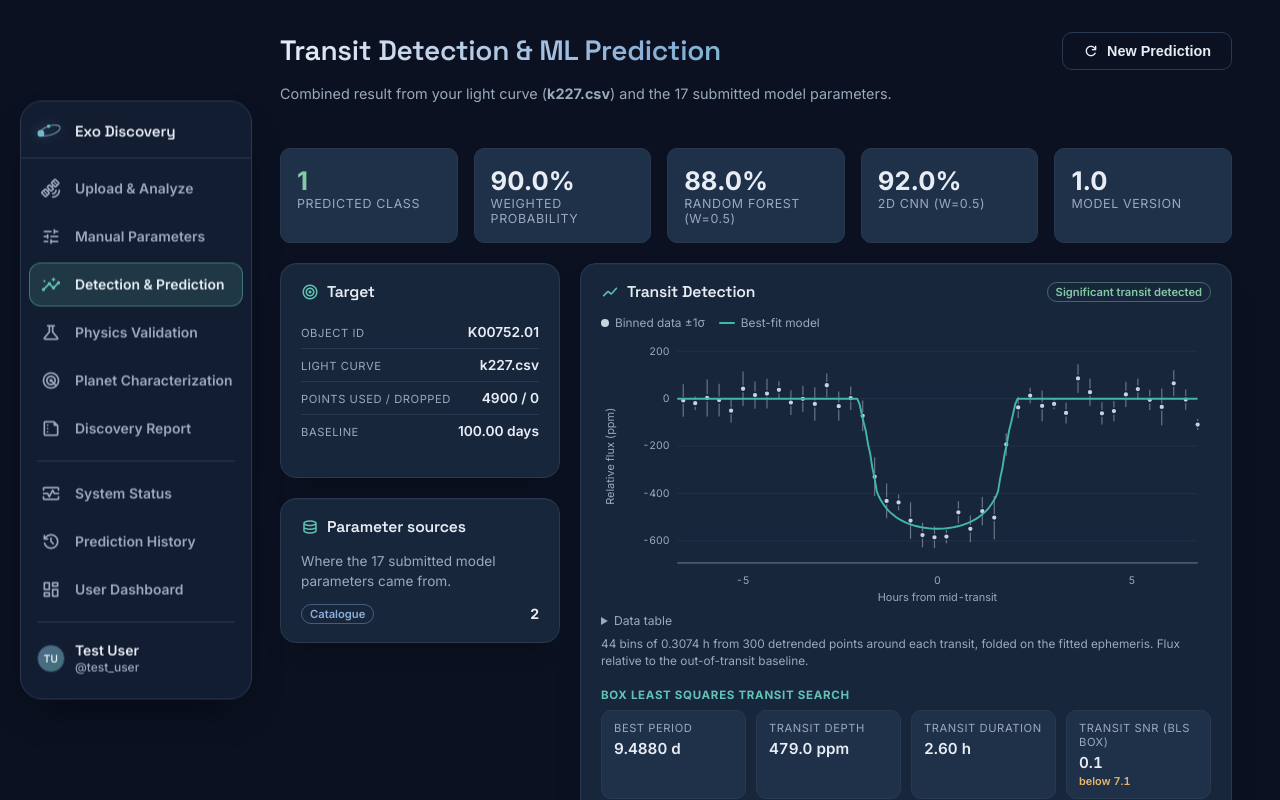
it: Planet characterization dashboard › mass-dependent and transit-density values explain their basis, source and confidence
Step 1. Click the link "Planet Characterization" → (137, 380), box [41,368,233,392]
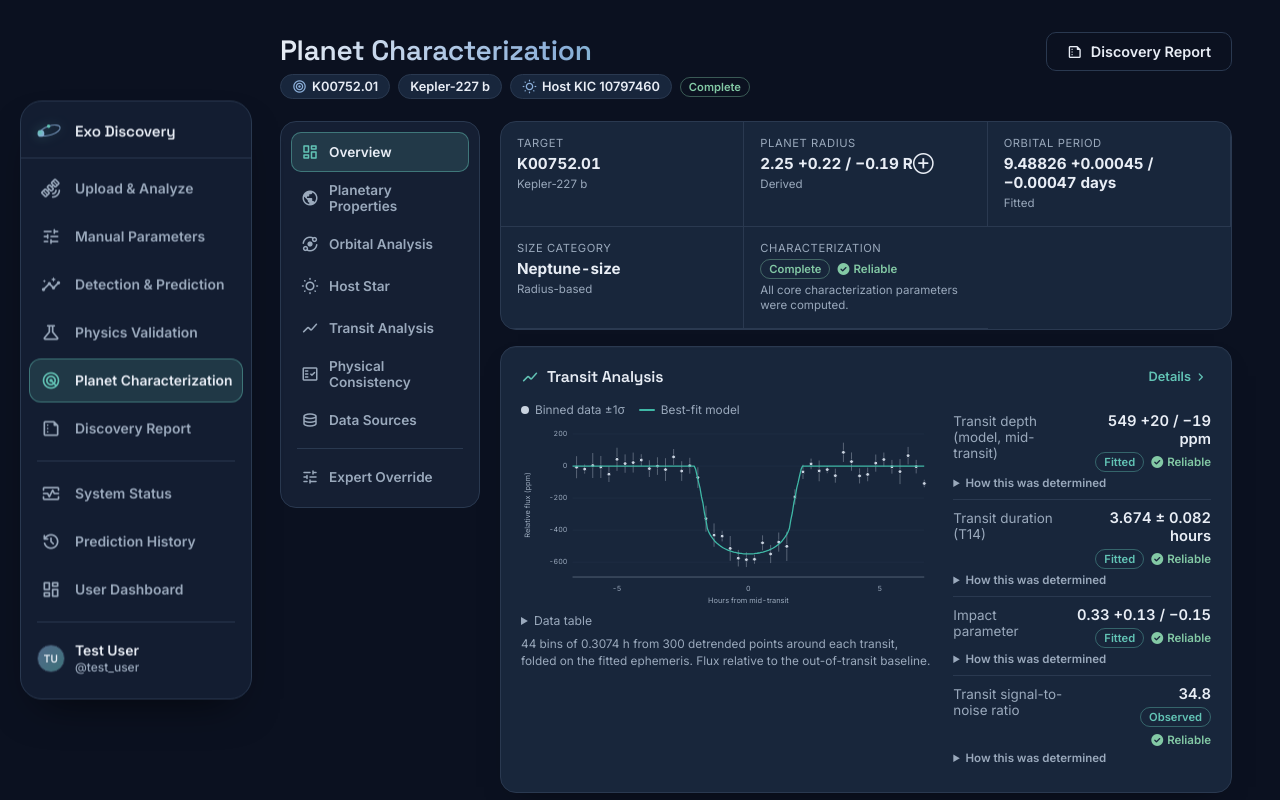
Step 2. Click the button "Planetary Properties" → (380, 198), box [291,174,469,222]
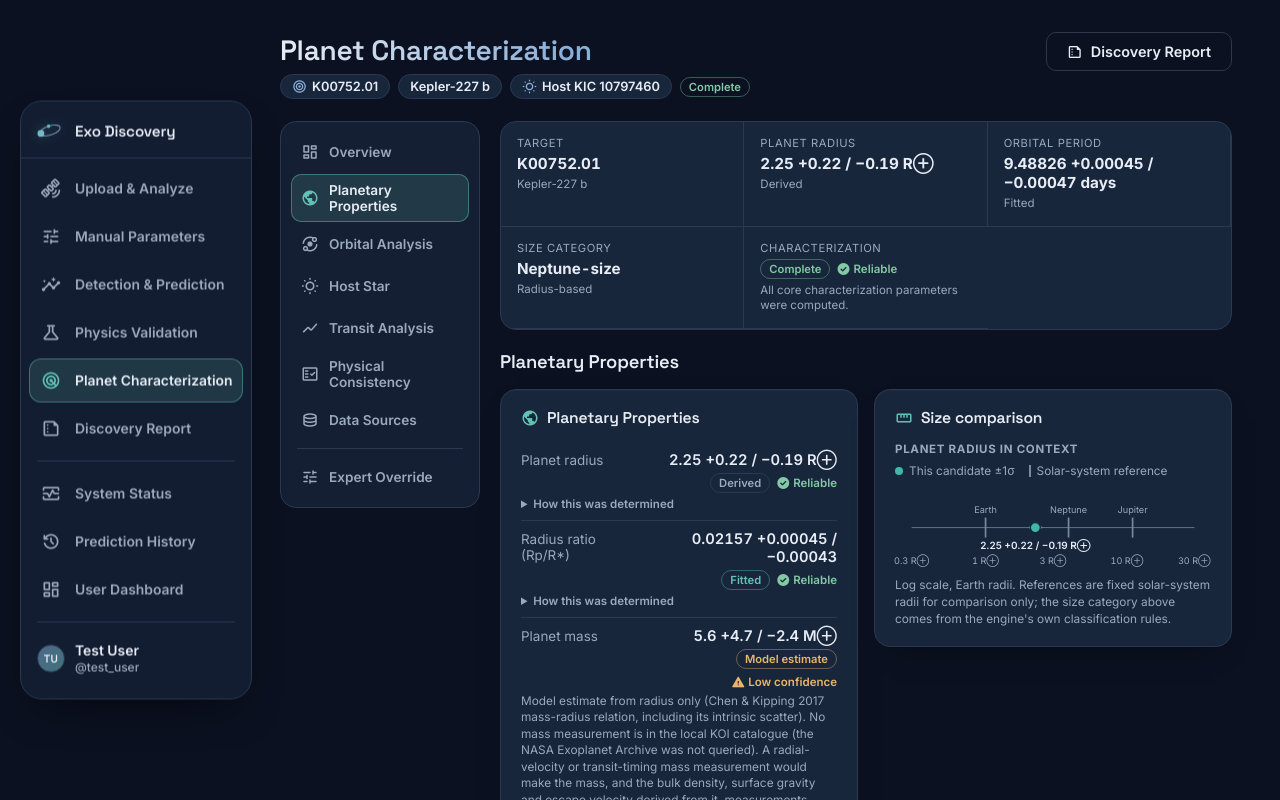
Check: the element with test id "char-param-planet_mass" shows "5.6 +4.7 / −2.4", box [694,627,837,645]
Check: the element with test id "char-param-planet_mass" shows "Model estimate", box [745,652,828,666]
Check: the element with test id "char-param-planet_mass" shows "Low confidence", box [748,675,837,689]
Step 3. Click the button "Host Star" → (380, 286), box [291,266,469,306]
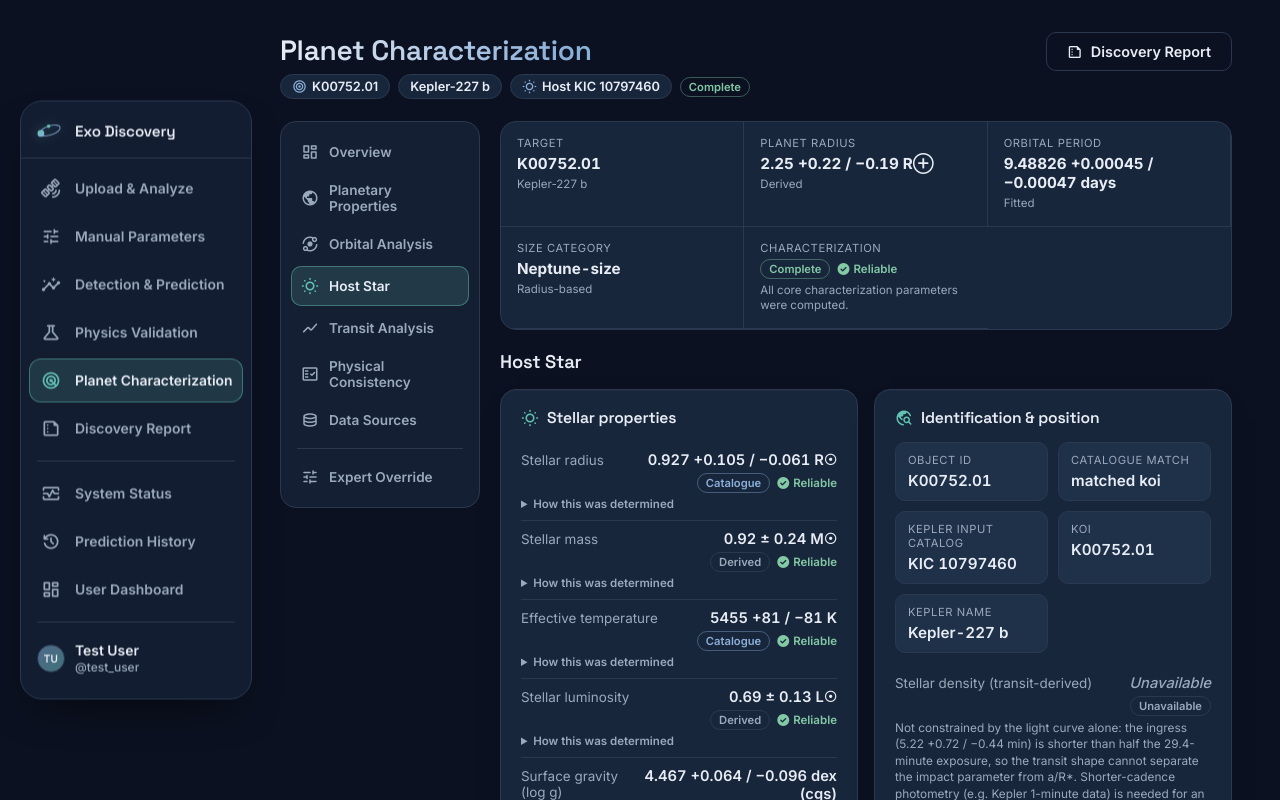
Check: the element with test id "char-param-stellar_density_transit" shows "Unavailable", box [1129,674,1211,692]
Step 4. Click the button "Physical Consistency" → (380, 374), box [291,350,469,398]
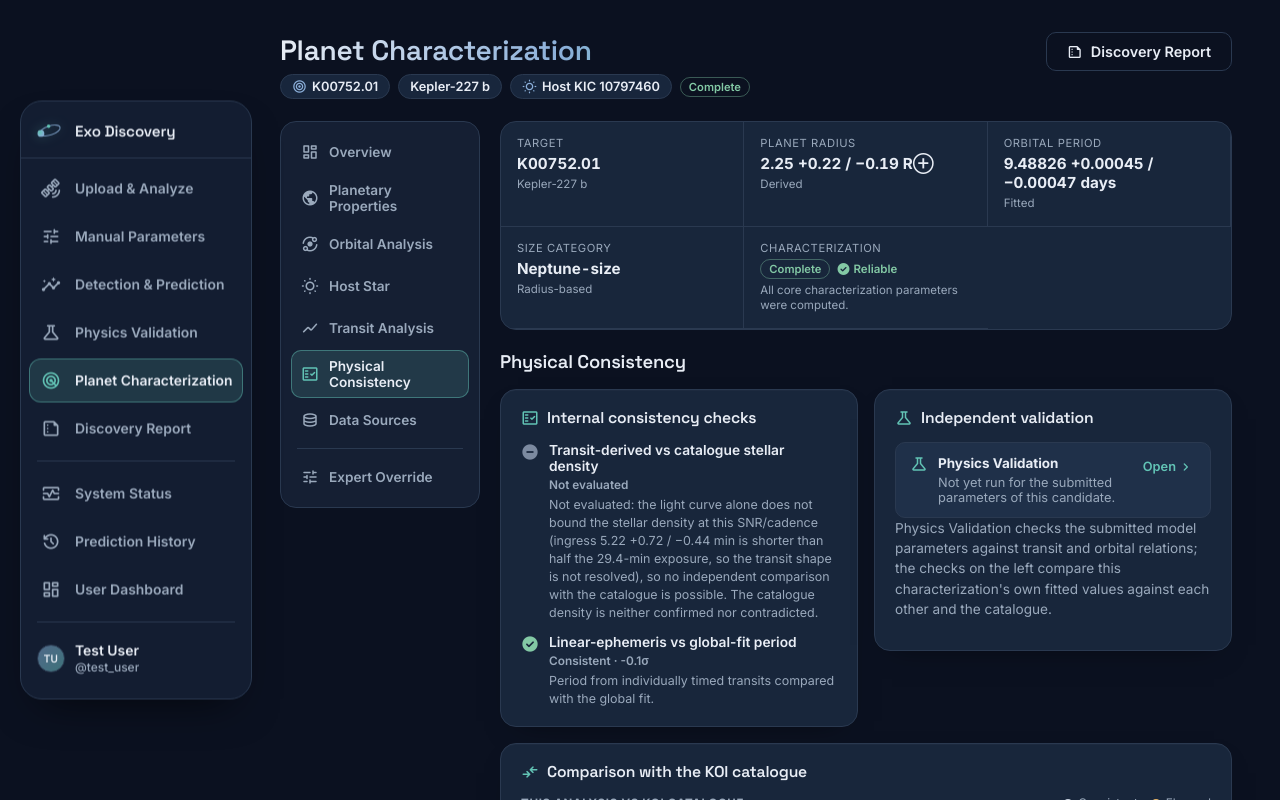
Check: the text "the transit shape is not resolved" is shown, box [549,497,832,620]
